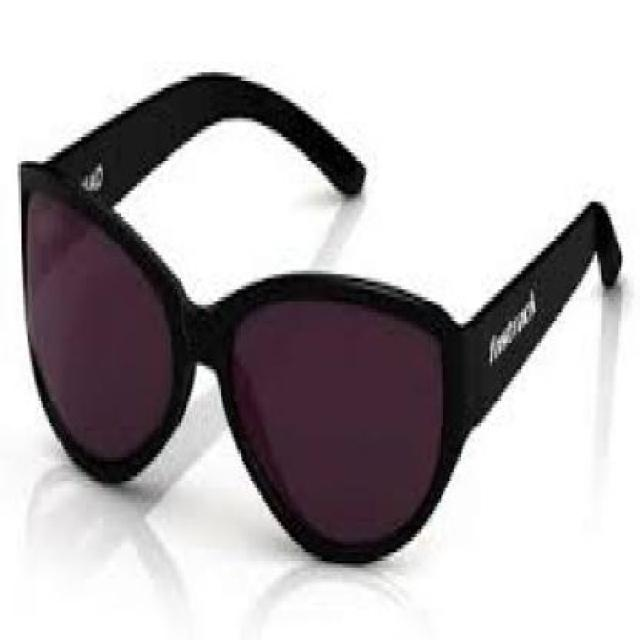gozluk: (11, 144, 475, 579)
